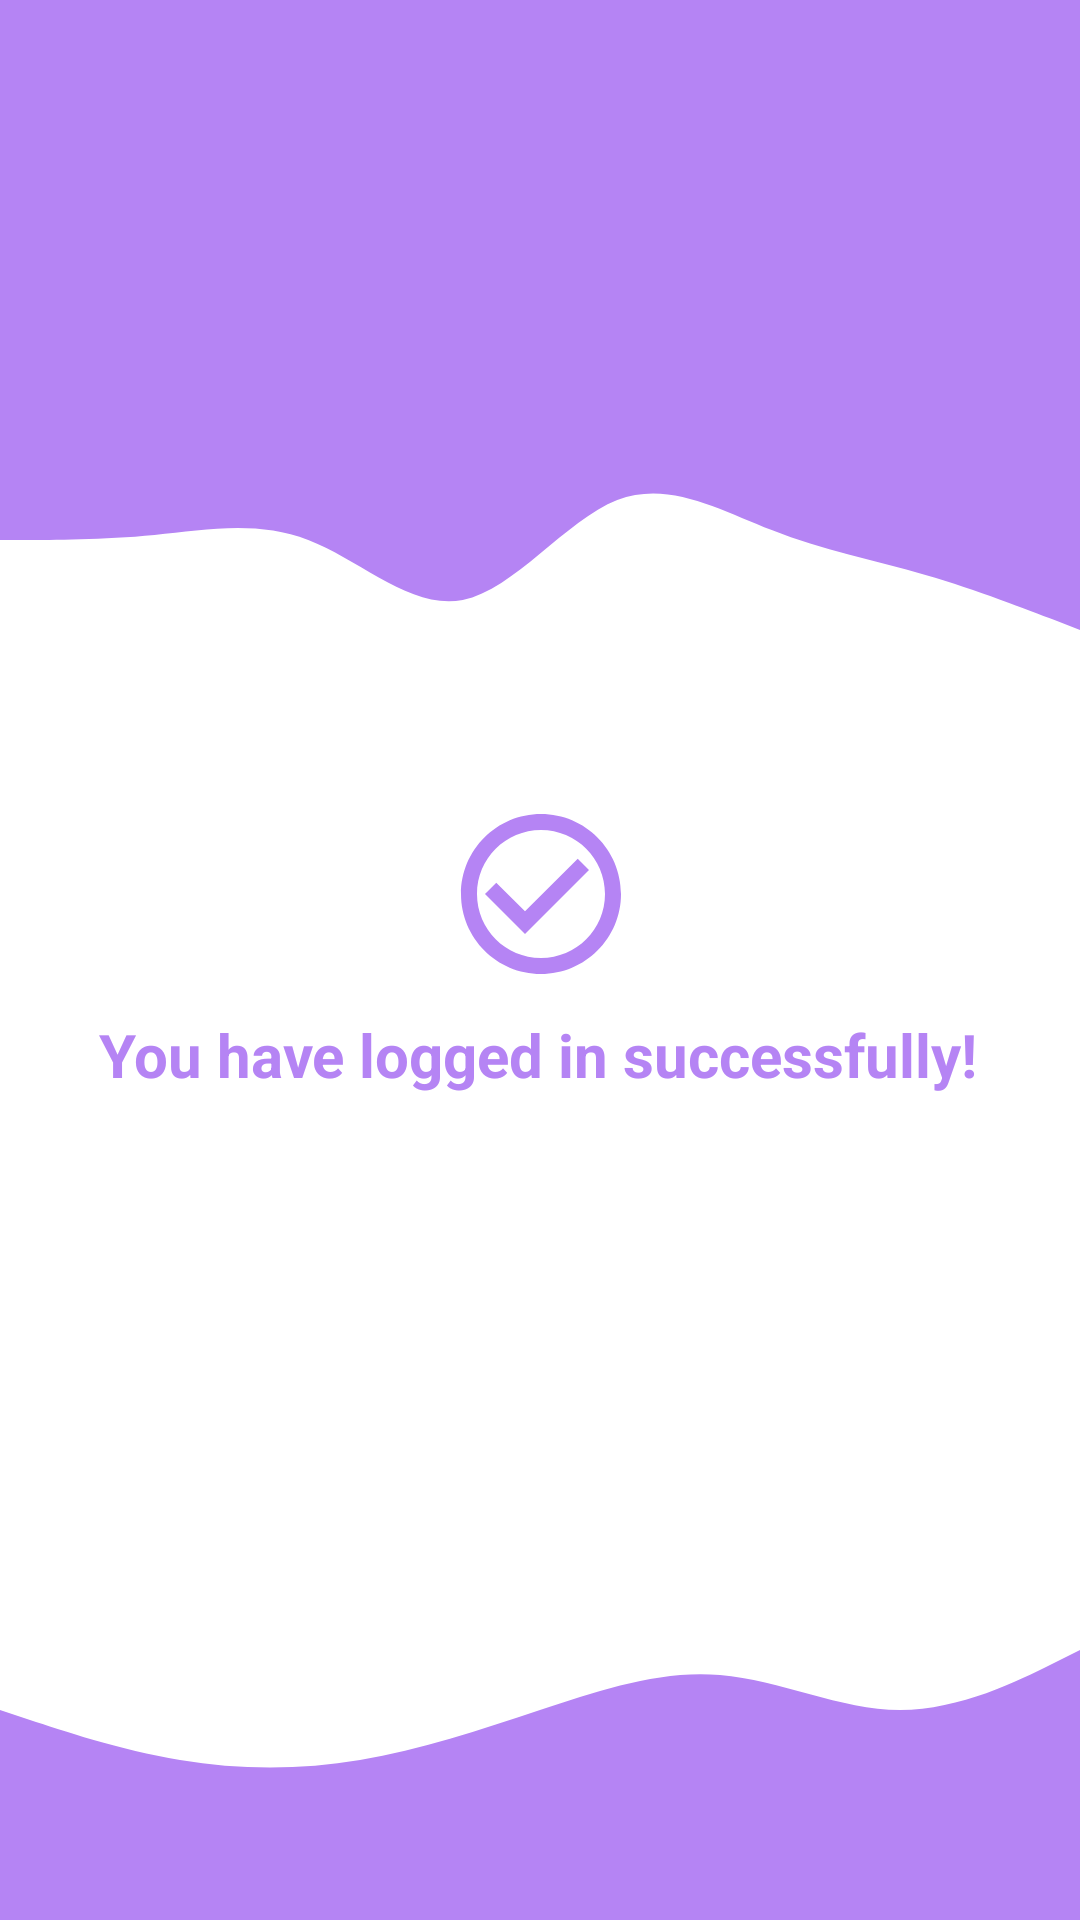

Screen size 1080px×1920px. Icon name, then its box in pixels as box=[x1, y1, x2, y2]:
check circle: box=[461, 814, 621, 974]
